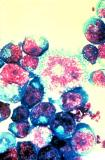COVID19: (7, 17, 95, 155)
